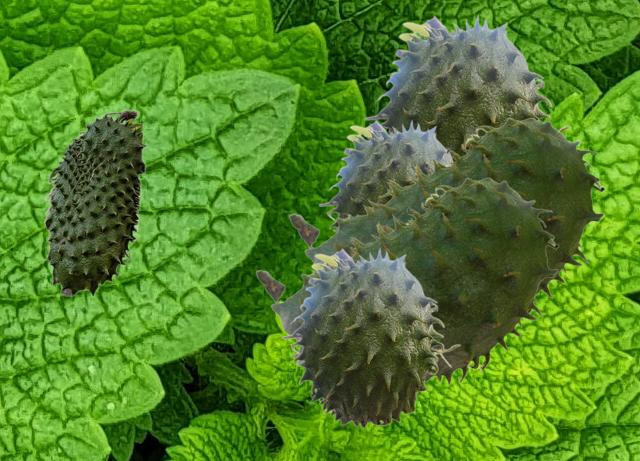guyabano: (288, 117, 604, 320), (255, 177, 558, 385), (281, 246, 460, 428), (364, 13, 570, 160), (43, 109, 146, 296), (318, 118, 453, 232)
